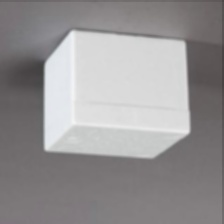foam_box: (37, 25, 196, 163)
